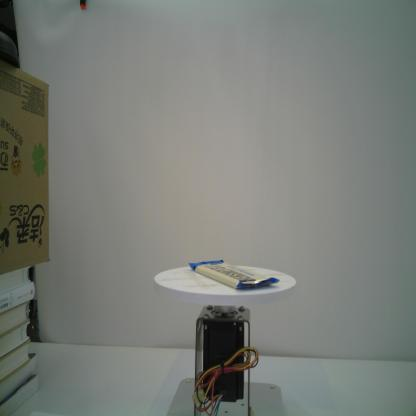Chocolate: (189, 258, 280, 290)
